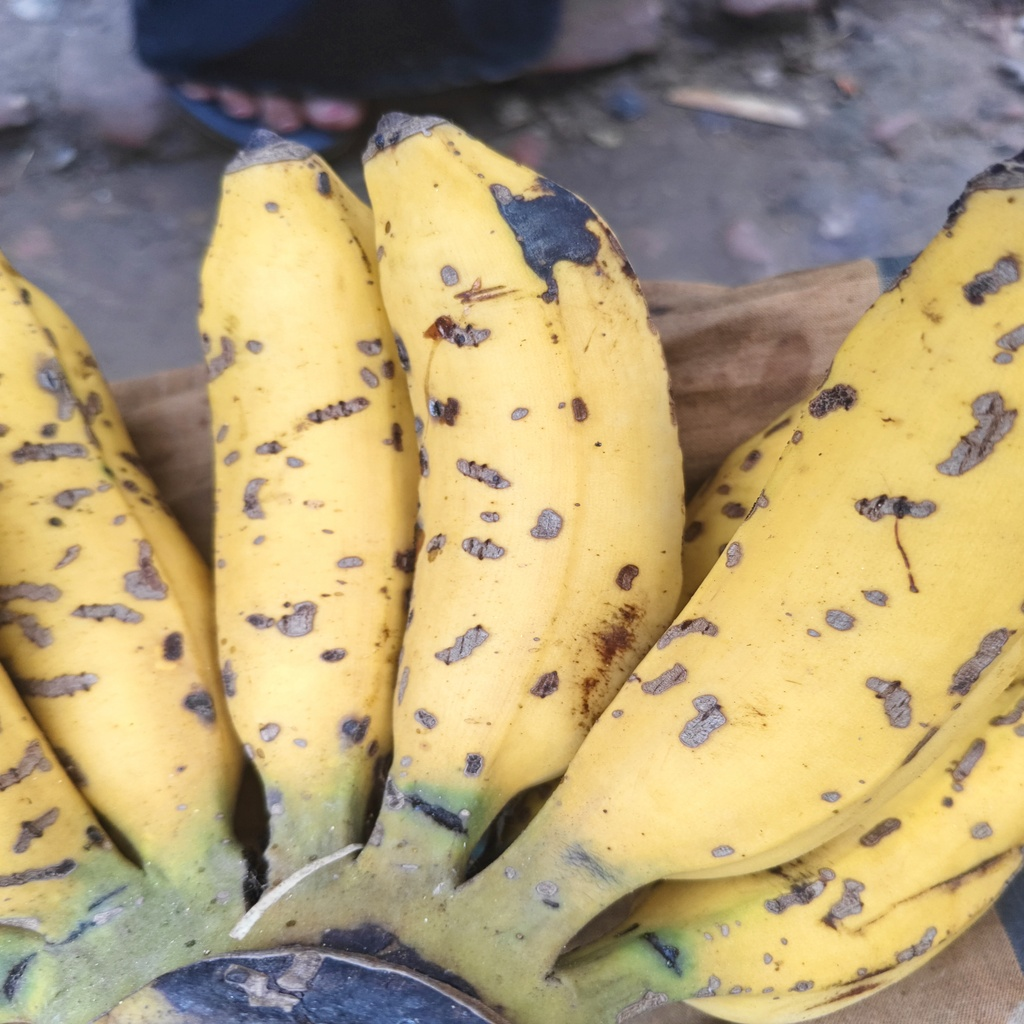unhealthy: (368, 120, 683, 835), (197, 144, 423, 807)
